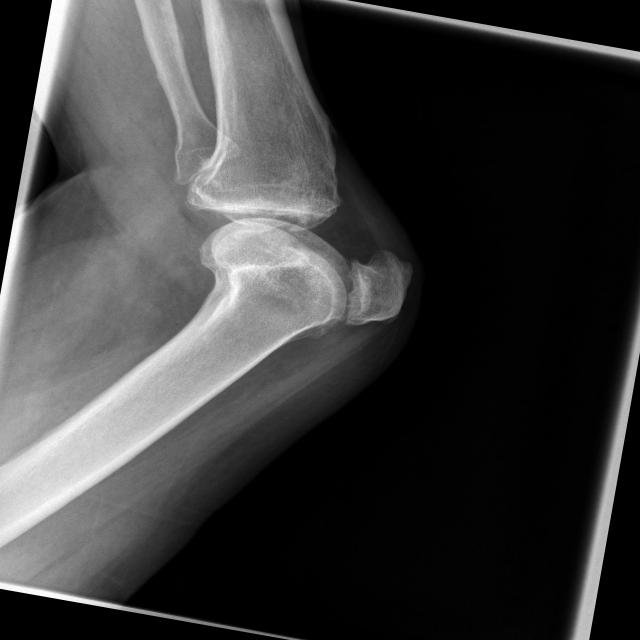Knee: (158, 146, 426, 384)
